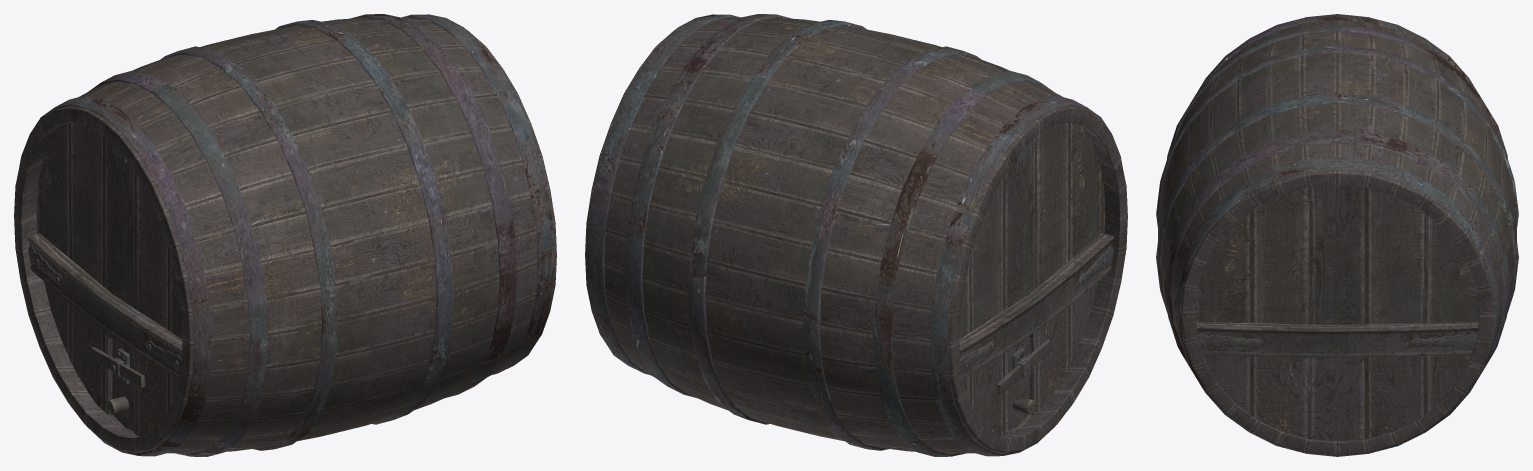
The model's file is SM_WineCaskA.FBX.
3 views of the same model, side by side, from view 1: azimuth 30°, elevation 25°; view 2: azimuth 150°, elevation 25°; view 3: azimuth 270°, elevation 25° (orthographic). The views are drawn at different scales.
Visible parts, largest first — view 1: SM_VineCaskA; view 2: SM_VineCaskA; view 3: SM_VineCaskA.
Boxes of the visible parts, left/top/right/bottom form: SM_VineCaskA: left=14, top=14, right=556, bottom=456; SM_VineCaskA: left=585, top=14, right=1127, bottom=456; SM_VineCaskA: left=1156, top=14, right=1518, bottom=456.
Bounding box in the file's own units: 202 × 194 × 194.
